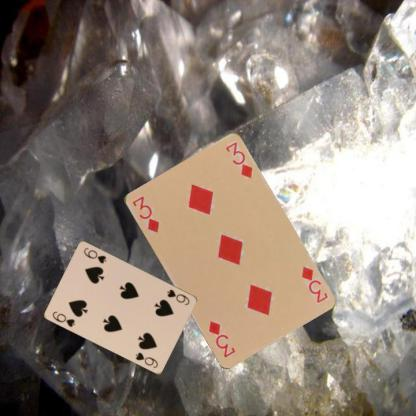3d: (128, 194, 160, 234), (298, 264, 329, 304)
6s: (165, 287, 191, 306), (51, 309, 76, 328)
